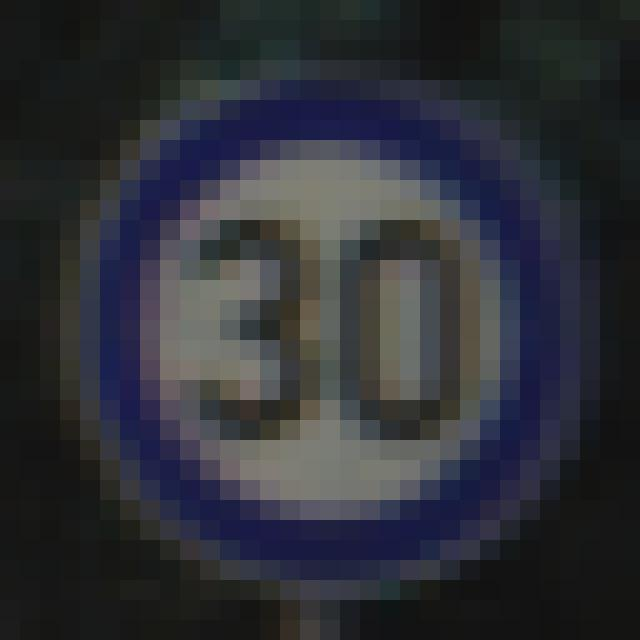SPEED LIMIT 30: (122, 144, 552, 548)
